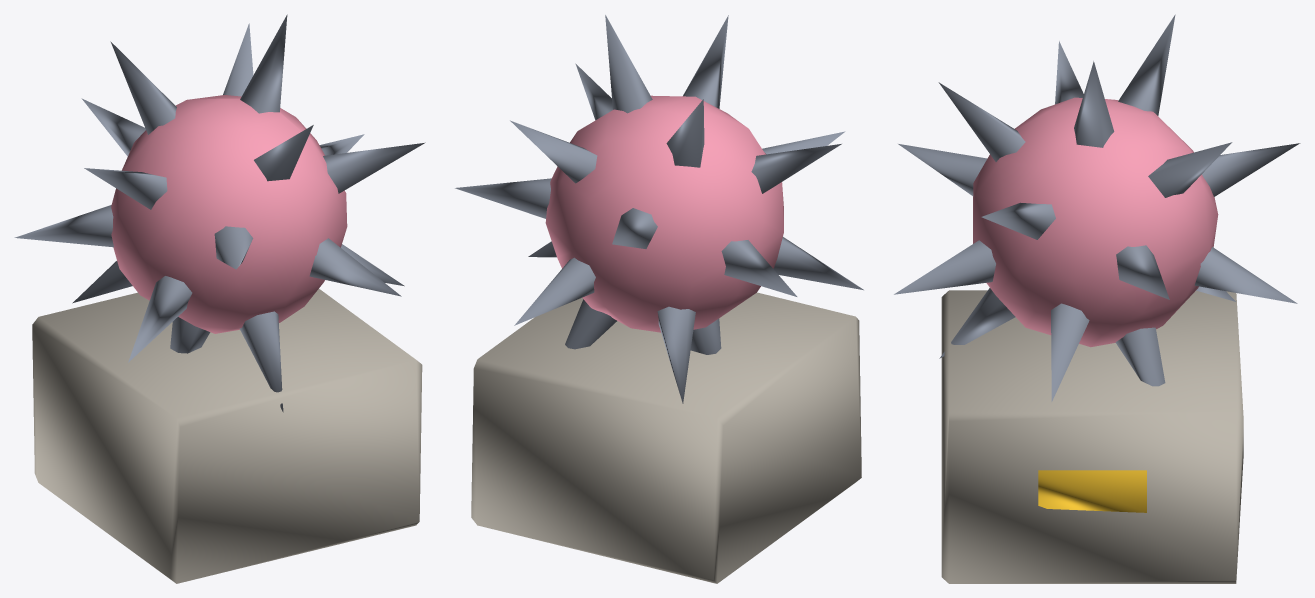
File: spiky.glb
The picture shows the model from 3 angles, left to right: view 1: azimuth 30°, elevation 25°; view 2: azimuth 150°, elevation 25°; view 3: azimuth 270°, elevation 25°; orthographic projection. The views are drawn at different scales.
Parts seen in each view (by area): view 1: spiky; view 2: spiky; view 3: spiky.
Boxes of the visible parts, x1,y1,x2,y2 form: spiky: [14, 14, 425, 583]; spiky: [455, 15, 863, 583]; spiky: [894, 14, 1300, 583].
Bounding box in the file's own units: 1.49 × 1.95 × 1.46.
1 material, 1 textured.
